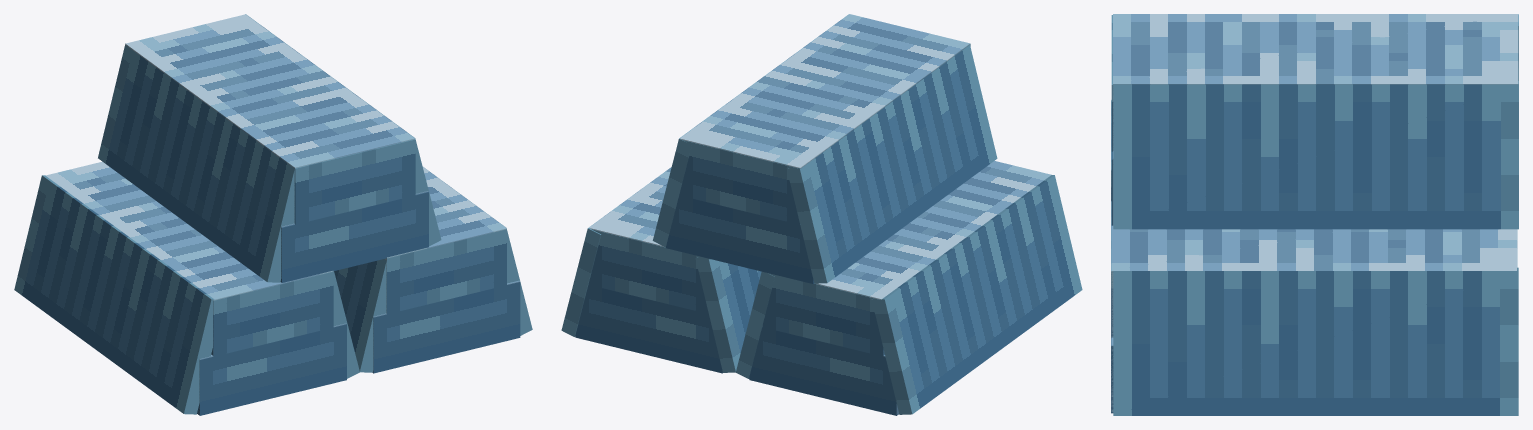
Rendered from icon_silkironingot.gltf.
3 renders of one model, left to right at view 1: azimuth 30°, elevation 25°; view 2: azimuth 150°, elevation 25°; view 3: azimuth 270°, elevation 25°, orthographic. The views are drawn at different scales.
Visible parts, largest first — view 1: Y1-Local, L1$$(1)-Local, iron0-Local, x2-Local, x2$$(1)-Local, x2$$(2)-Local, iront1-Local, L1-Local, iron3-Local, R2$$(1)-Local, Y2-Local, R2-Local; view 2: Y1-Local, L1$$(1)-Local, iron0-Local, x1$$(1)-Local, x1-Local, x1$$(2)-Local, iront1-Local, L1-Local, iron3-Local, R2$$(1)-Local, R2-Local, Y2-Local; view 3: R2$$(1)-Local, R2-Local, iron0-Local, iron3-Local, x2-Local.
Boxes of the visible parts, x1=… form: Y1-Local: x1=14, y1=175, x2=214, y2=414; L1$$(1)-Local: x1=98, y1=43, x2=294, y2=282; iron0-Local: x1=125, y1=14, x2=428, y2=280; x2-Local: x1=180, y1=85, x2=428, y2=282; x2$$(1)-Local: x1=199, y1=271, x2=346, y2=415; x2$$(2)-Local: x1=373, y1=229, x2=520, y2=373; iront1-Local: x1=45, y1=161, x2=346, y2=414; L1-Local: x1=334, y1=259, x2=386, y2=372; iron3-Local: x1=373, y1=167, x2=520, y2=371; R2$$(1)-Local: x1=245, y1=14, x2=441, y2=246; Y2-Local: x1=333, y1=271, x2=359, y2=378; R2-Local: x1=423, y1=167, x2=532, y2=335; Y1-Local: x1=872, y1=175, x2=1082, y2=414; L1$$(1)-Local: x1=787, y1=45, x2=997, y2=283; iron0-Local: x1=680, y1=14, x2=970, y2=168; x1$$(1)-Local: x1=749, y1=273, x2=898, y2=415; x1-Local: x1=666, y1=92, x2=904, y2=283; x1$$(2)-Local: x1=575, y1=229, x2=722, y2=373; iront1-Local: x1=762, y1=161, x2=1051, y2=414; L1-Local: x1=695, y1=257, x2=761, y2=372; iron3-Local: x1=589, y1=167, x2=671, y2=246; R2$$(1)-Local: x1=652, y1=14, x2=848, y2=247; R2-Local: x1=561, y1=167, x2=671, y2=336; Y2-Local: x1=736, y1=271, x2=774, y2=378; R2$$(1)-Local: x1=1113, y1=81, x2=1518, y2=229; R2-Local: x1=1113, y1=267, x2=1518, y2=415; iron0-Local: x1=1113, y1=14, x2=1518, y2=225; iron3-Local: x1=1111, y1=201, x2=1516, y2=412; x2-Local: x1=1111, y1=15, x2=1113, y2=225.
Size of the model in its own units: 26.17 by 16.05 by 22.13.
15 materials, 15 textured.
